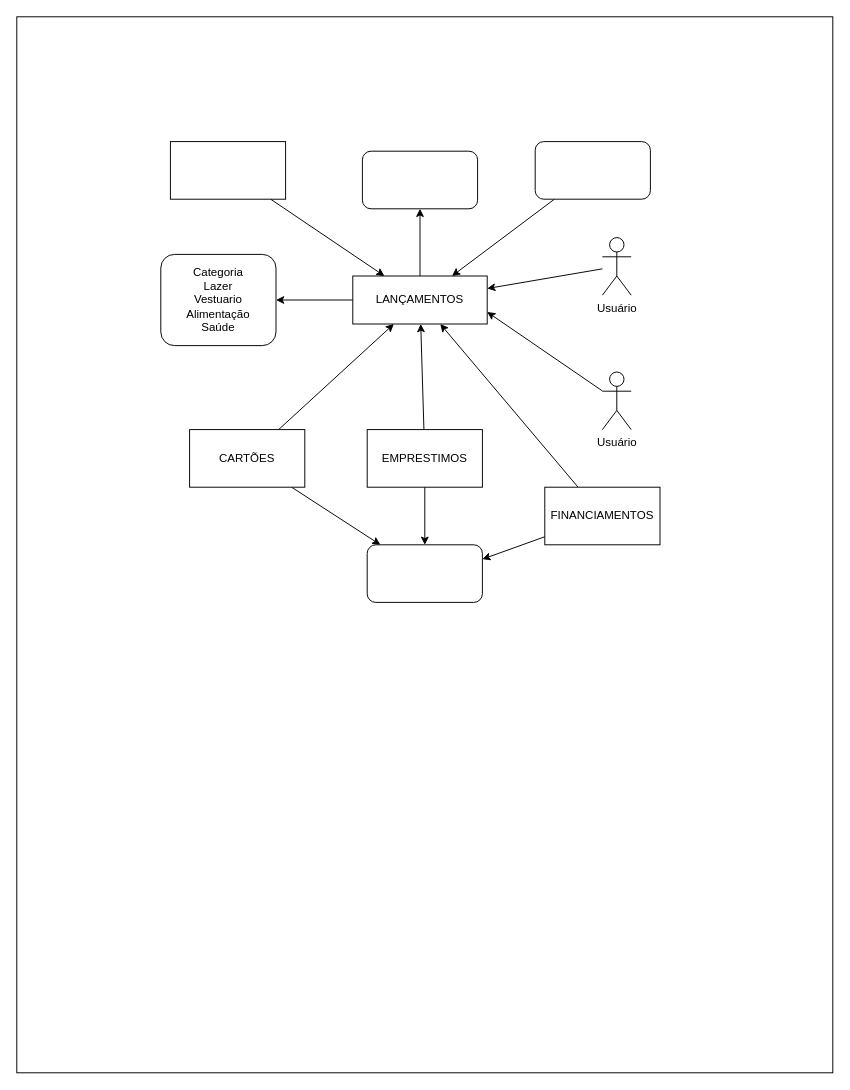
The diagram is 850 pixels wide and 1090 high, and some of its shapes have lost their labels. The centre of each missing label's shape, as x and y in pixels:
"A PAGAR | A Receber" belongs at point (419, 179).
"CENTRO DE CUSTO" belongs at point (227, 170).
"FORNECEDORES" belongs at point (592, 170).
"PARCELAS" belongs at point (424, 573).
